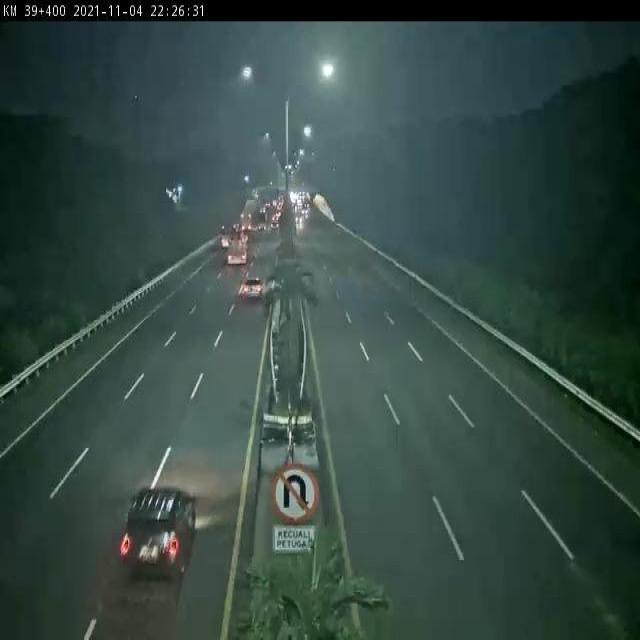car: (107, 459, 201, 593), (234, 264, 272, 321)
truck-xl-: (226, 232, 258, 269)
